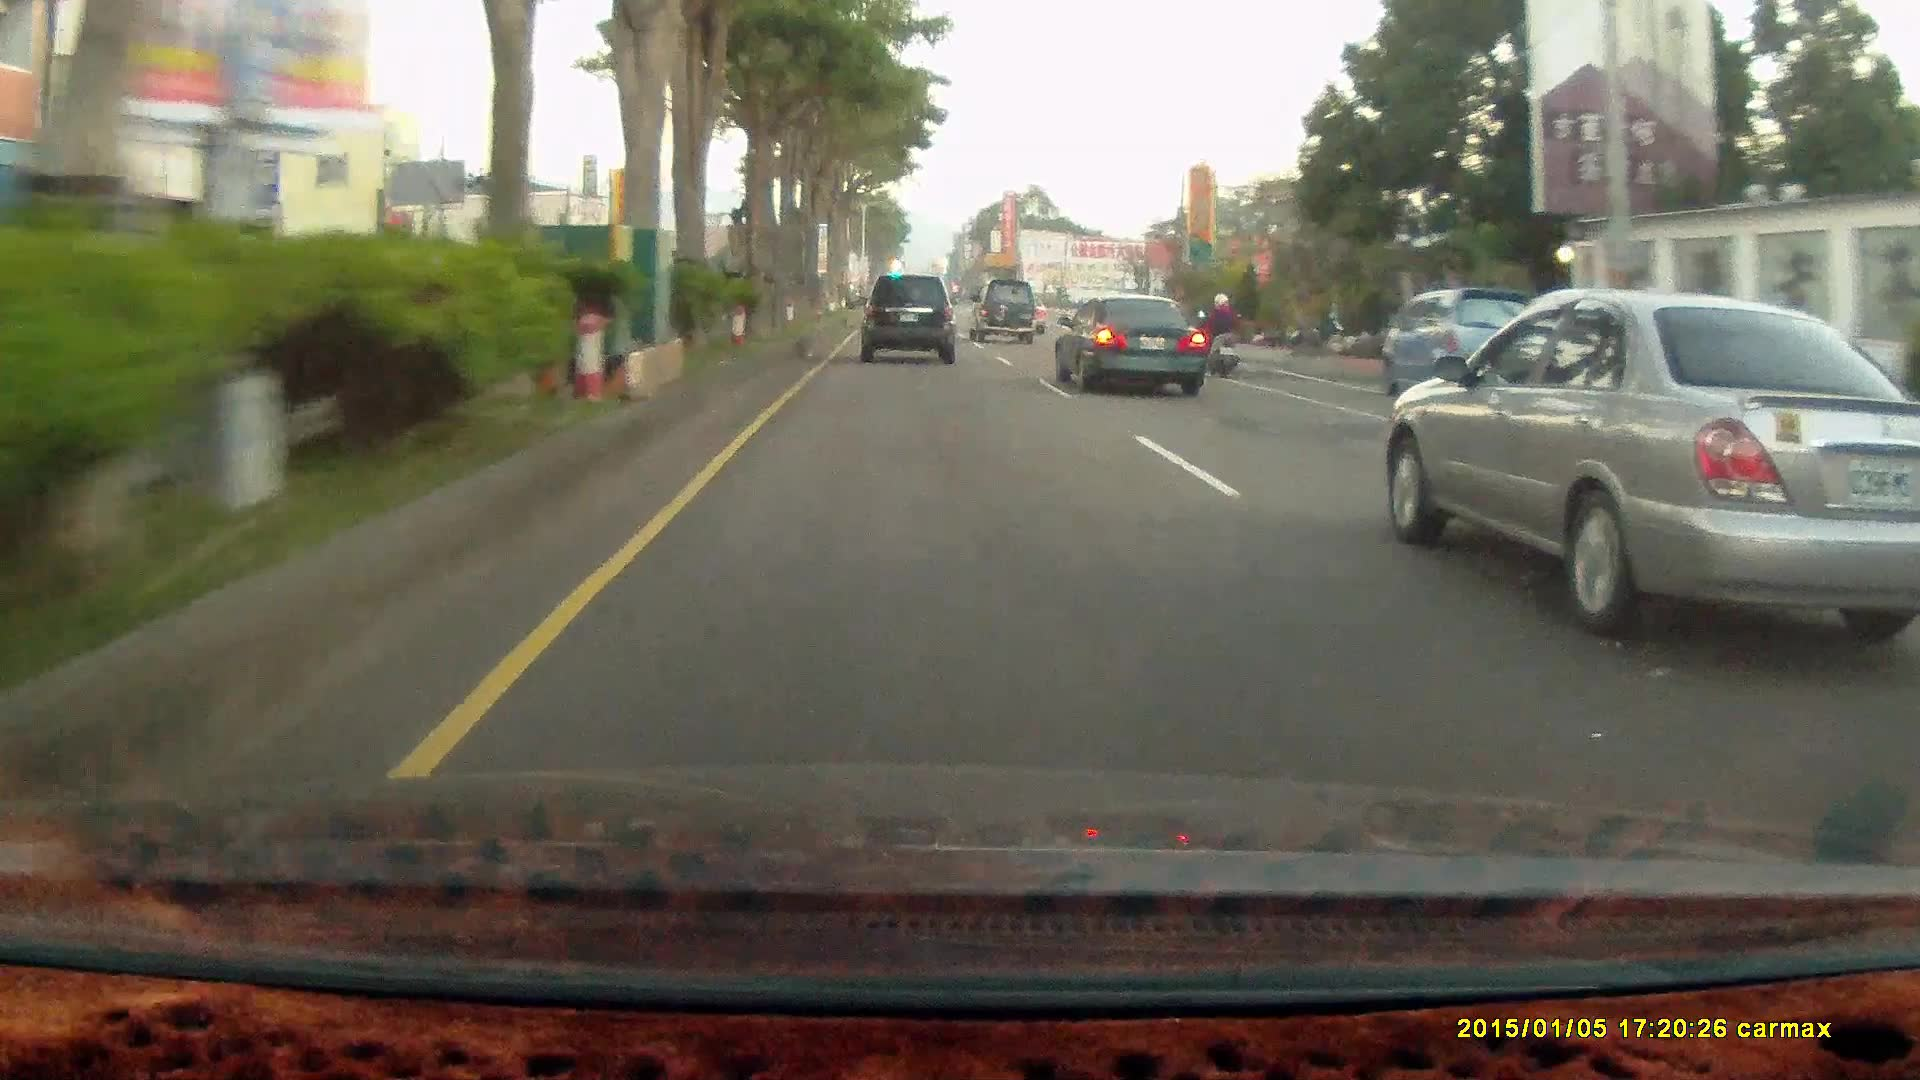rider: (1200, 294, 1244, 381)
vehicle: (1387, 299, 1920, 648), (1376, 285, 1549, 395), (1377, 288, 1551, 394), (1052, 292, 1207, 396), (1057, 296, 1211, 400), (859, 274, 964, 370), (856, 274, 955, 364), (969, 280, 1037, 348), (969, 279, 1037, 343)
